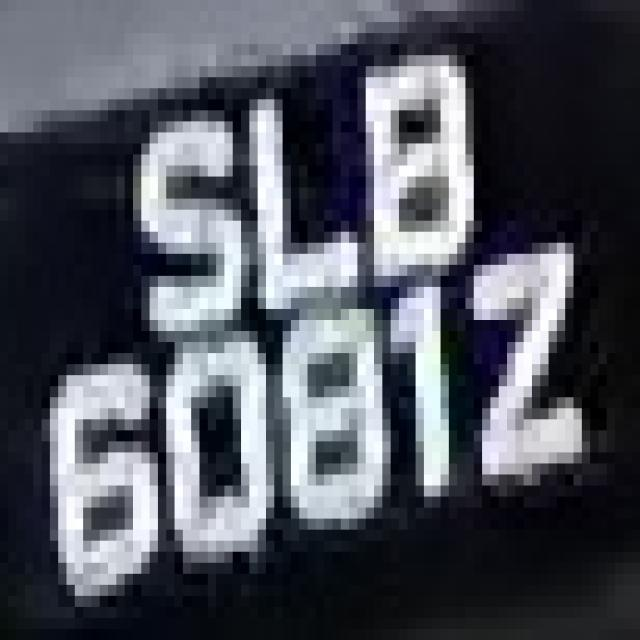0: (175, 309, 274, 585)
1: (391, 309, 457, 563)
6: (25, 331, 166, 596)
8: (282, 253, 390, 530)
B: (332, 22, 498, 331)
L: (233, 33, 357, 309)
S: (108, 66, 249, 364)
Z: (441, 220, 590, 486)
